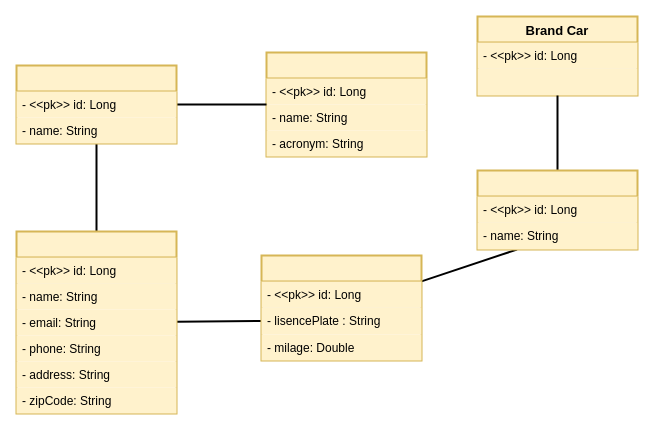
The diagram is 654 pixels wide and 430 high, and some of its shapes have lost their labels. The shapes that lost their labels are listed below. From the top down, each one's box as (x1, y1, x2, y2) in pixels, then its label:
(477, 68, 637, 95): - name : String:
(15, 64, 177, 144): City
(265, 51, 427, 157): State
(476, 169, 638, 250): Model Car
(15, 230, 177, 414): Client
(260, 254, 422, 361): Vehicle
